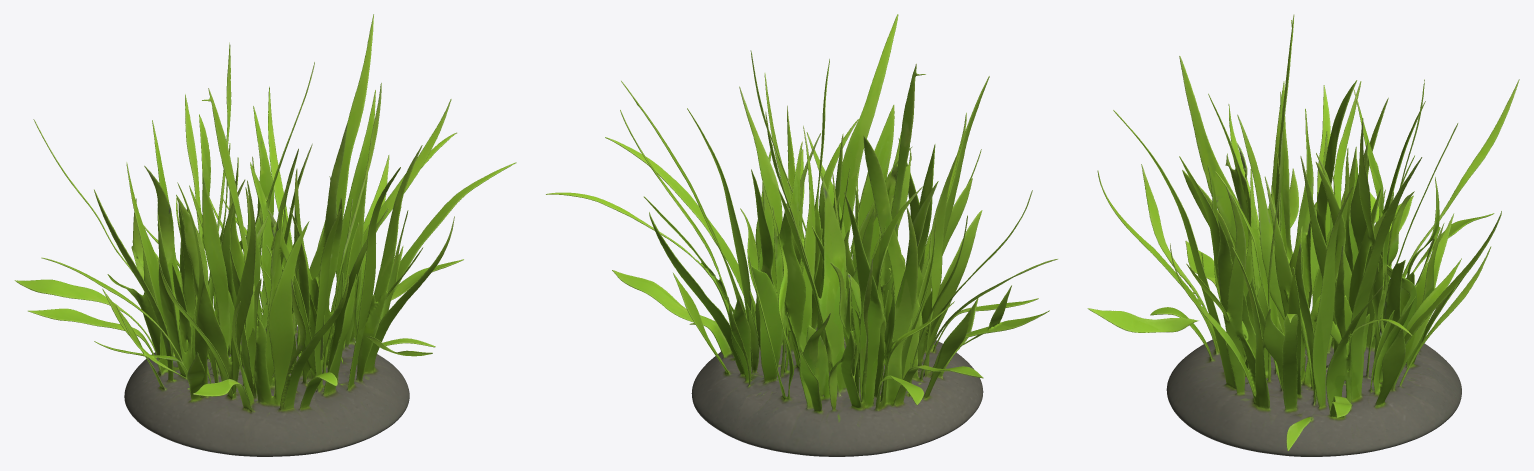
File: grass_clump.glb
3 renders of one model, left to right at view 1: azimuth 30°, elevation 25°; view 2: azimuth 150°, elevation 25°; view 3: azimuth 270°, elevation 25°, orthographic. The views are drawn at different scales.
Visible parts, largest first — view 1: mesh_node; view 2: mesh_node; view 3: mesh_node.
Part boxes in pixels (x1,y1,x2,y2): mesh_node: (14, 14, 516, 456); mesh_node: (546, 14, 1057, 456); mesh_node: (1087, 14, 1519, 456).
Size of the model in its own units: 1.83 by 1.28 by 1.44.
Materials: 1 (1 with a texture image).
